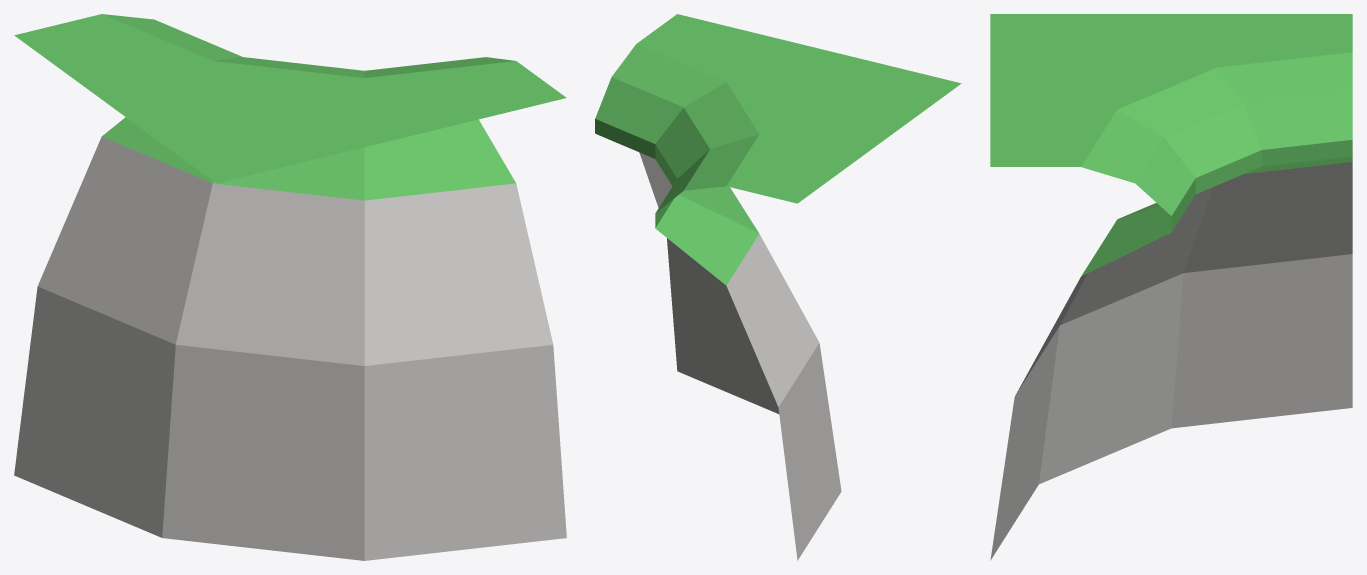
File: Cliff_Terrain_Corner_Inner_1x1_Top.glb
3 views of the same model, side by side, from view 1: azimuth 30°, elevation 25°; view 2: azimuth 150°, elevation 25°; view 3: azimuth 270°, elevation 25° (orthographic). The views are drawn at different scales.
Visible parts, largest first — view 1: Cliff_Terrain_Corner_Inner_1x1_Top; view 2: Cliff_Terrain_Corner_Inner_1x1_Top; view 3: Cliff_Terrain_Corner_Inner_1x1_Top.
Boxes of the visible parts, left/top/right/bottom form: Cliff_Terrain_Corner_Inner_1x1_Top: left=14, top=14, right=566, bottom=560; Cliff_Terrain_Corner_Inner_1x1_Top: left=595, top=14, right=961, bottom=560; Cliff_Terrain_Corner_Inner_1x1_Top: left=990, top=14, right=1352, bottom=560.
Bounding box in the file's own units: 0.53 × 0.636 × 0.53.
